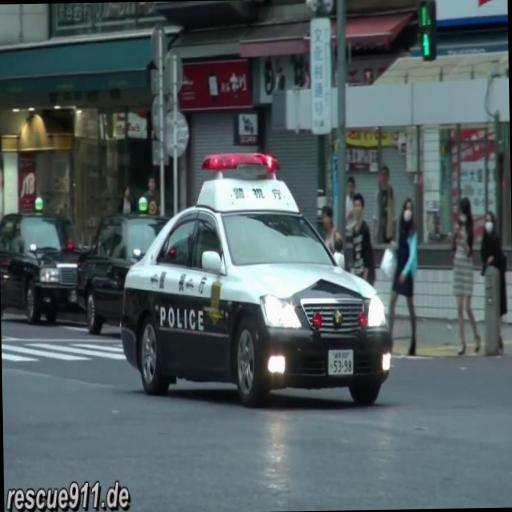Ambulance: (118, 148, 394, 410)
